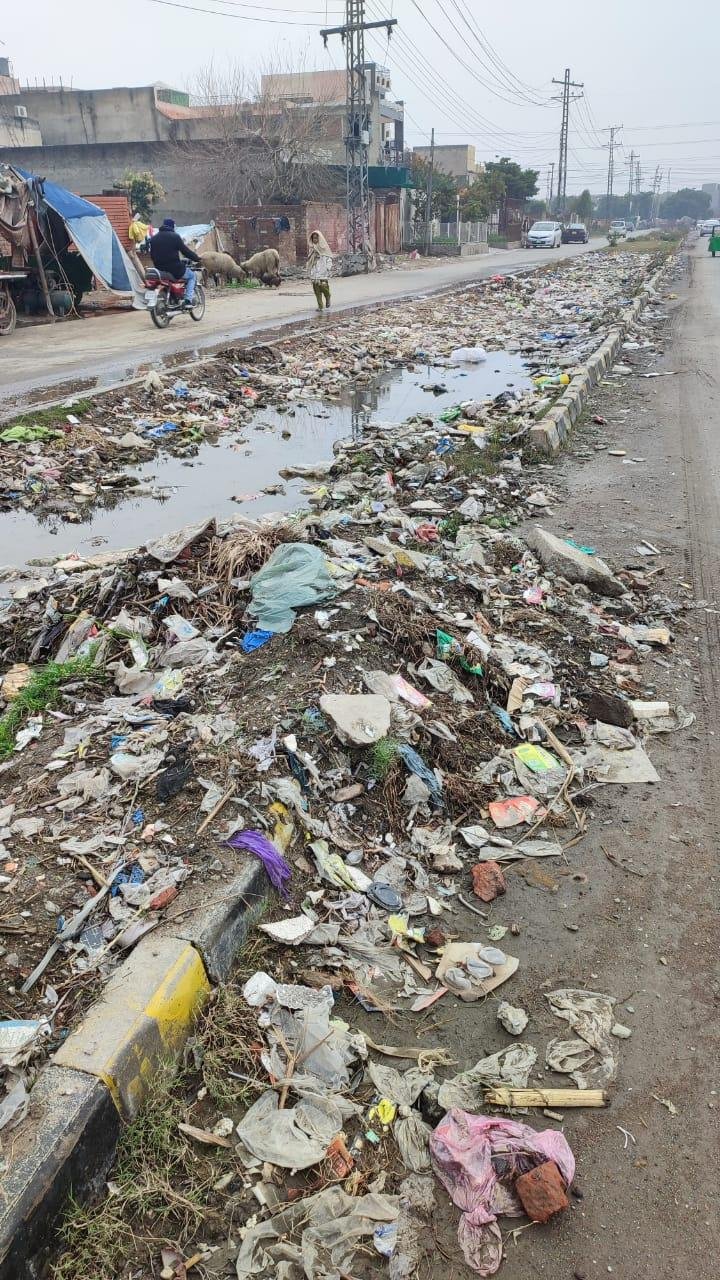garbage: (0, 363, 568, 1280)
